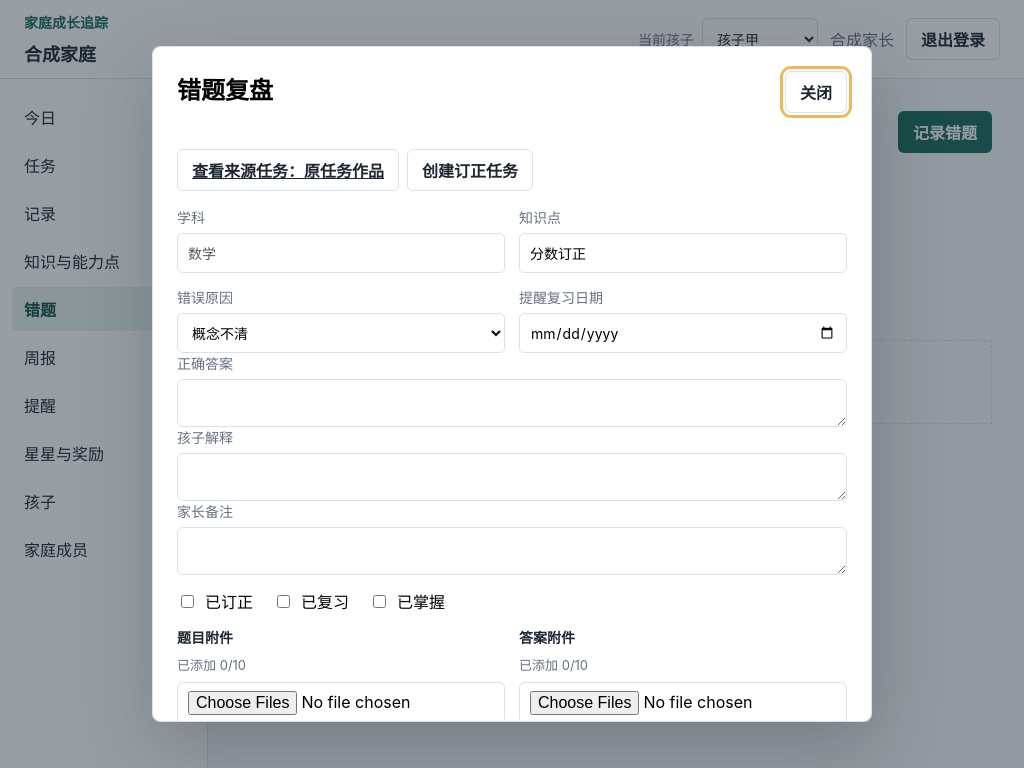
Test: parent source return uses real App task route and performs a new detail GET
Step 1. Click the link "查看来源任务：原任务作品" → (288, 170), box left=177, top=149, right=399, bottom=191
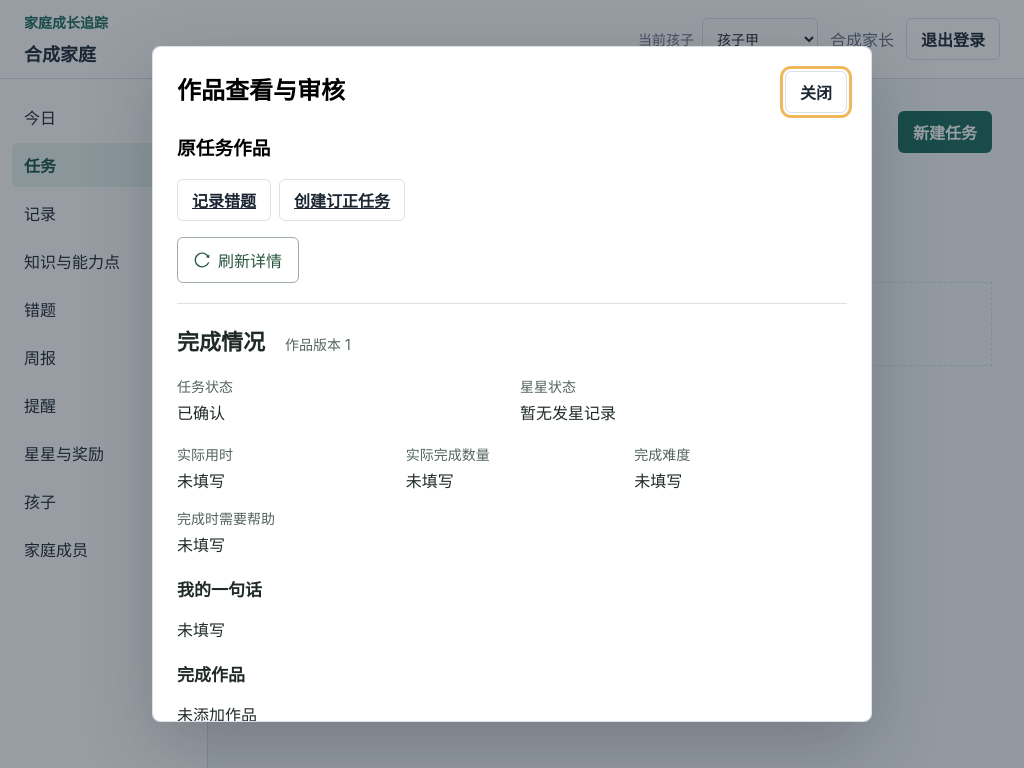
Check: the heading "作品查看与审核" is shown, box left=177, top=71, right=345, bottom=106
